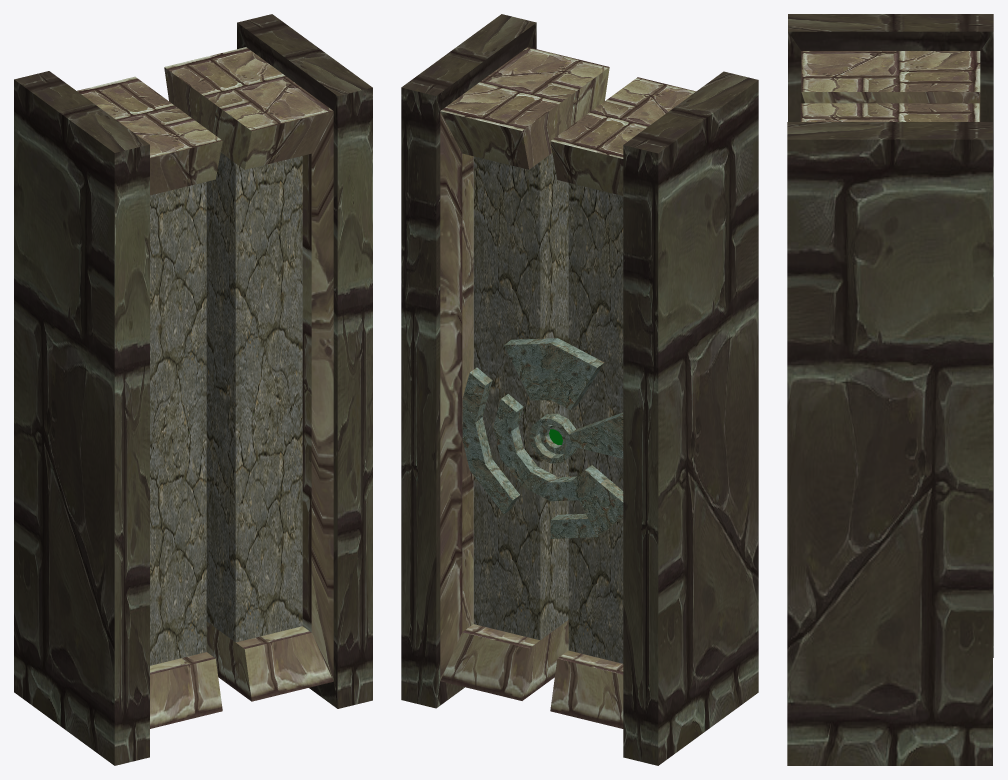
File: gate.fbx
3 views of the same model, side by side, from view 1: azimuth 30°, elevation 25°; view 2: azimuth 150°, elevation 25°; view 3: azimuth 270°, elevation 25° (orthographic). The views are drawn at different scales.
Visible parts, largest first — view 1: gate_lock; view 2: gate_lock; view 3: gate_lock.
Boxes of the visible parts, x1,y1,x2,y2 form: gate_lock: (14, 14, 372, 765); gate_lock: (401, 14, 758, 765); gate_lock: (787, 14, 993, 765).
Bounding box in the file's own units: 158 × 360 × 107.
